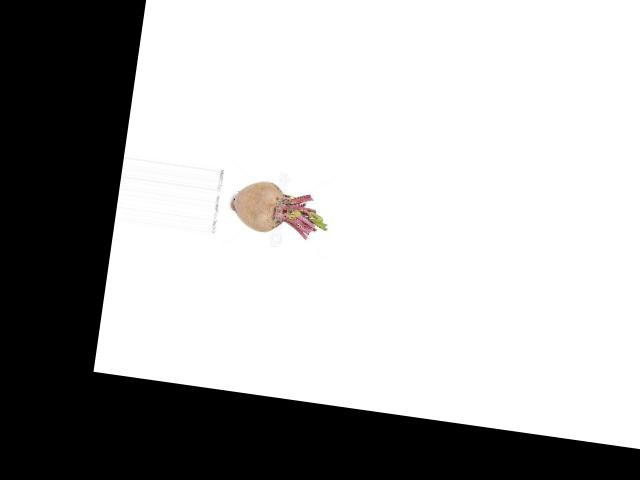beet: (227, 176, 332, 242)
